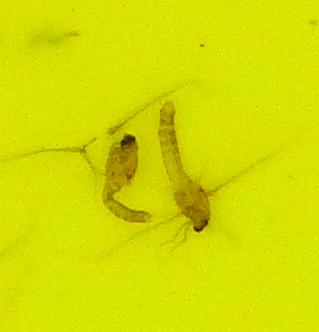Ephemeroptera: (154, 100, 219, 232), (100, 117, 155, 226)
